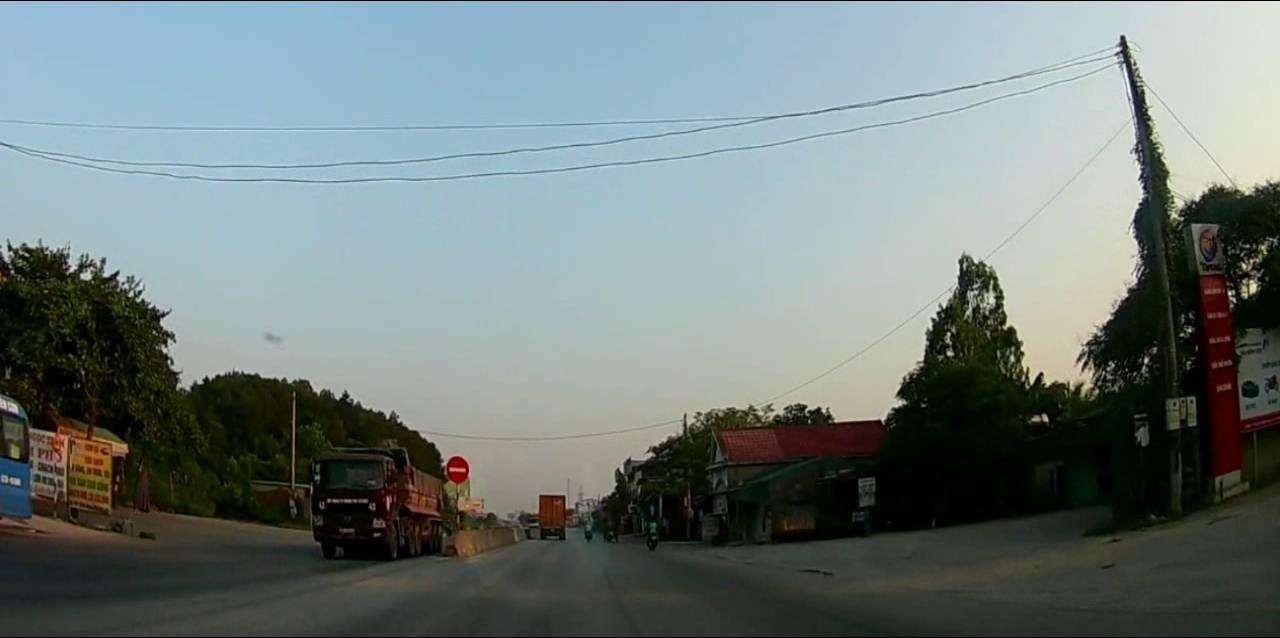Cam di nguoc chieu: (442, 452, 469, 486)
